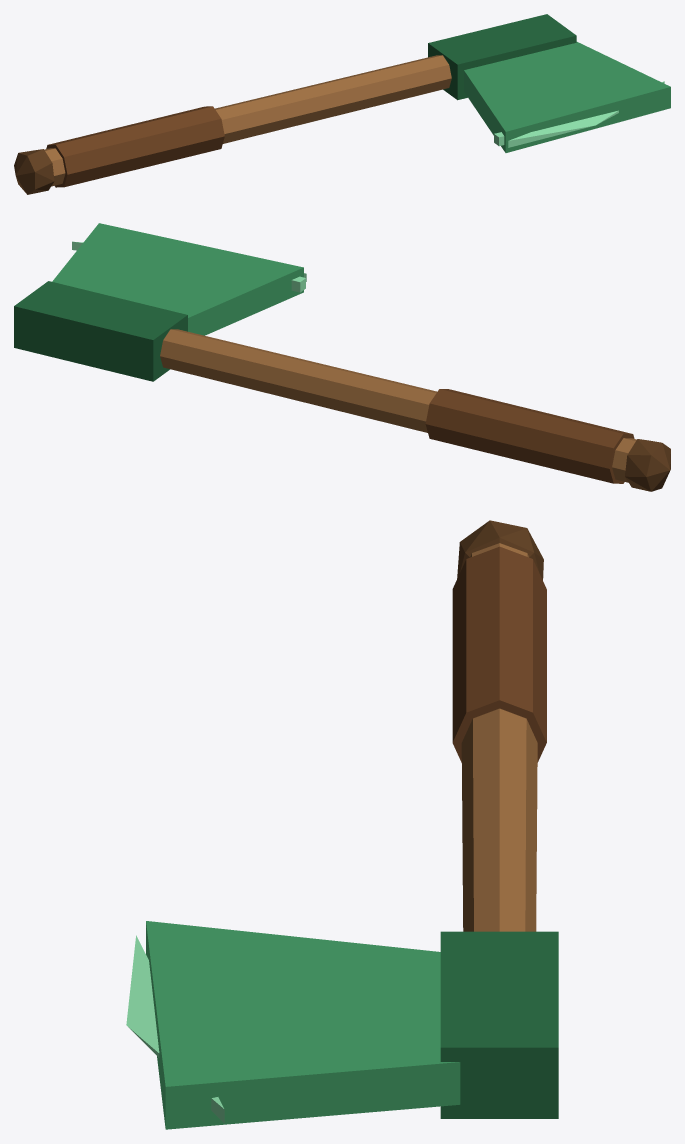
Rendered from drop_adamant_hatchet.glb.
The picture shows the model from 3 angles, top to bottom: view 1: azimuth 30°, elevation 25°; view 2: azimuth 150°, elevation 25°; view 3: azimuth 270°, elevation 25°; orthographic projection. The views are drawn at different scales.
Parts seen in each view (by area): view 1: drop_adamant_hatchet; view 2: drop_adamant_hatchet; view 3: drop_adamant_hatchet.
Part boxes in pixels (bbox=[...]): drop_adamant_hatchet: bbox=[14, 14, 670, 194]; drop_adamant_hatchet: bbox=[14, 223, 670, 491]; drop_adamant_hatchet: bbox=[126, 520, 558, 1129].
Size of the model in its own units: 0.6138 by 0.0432 by 0.198.
